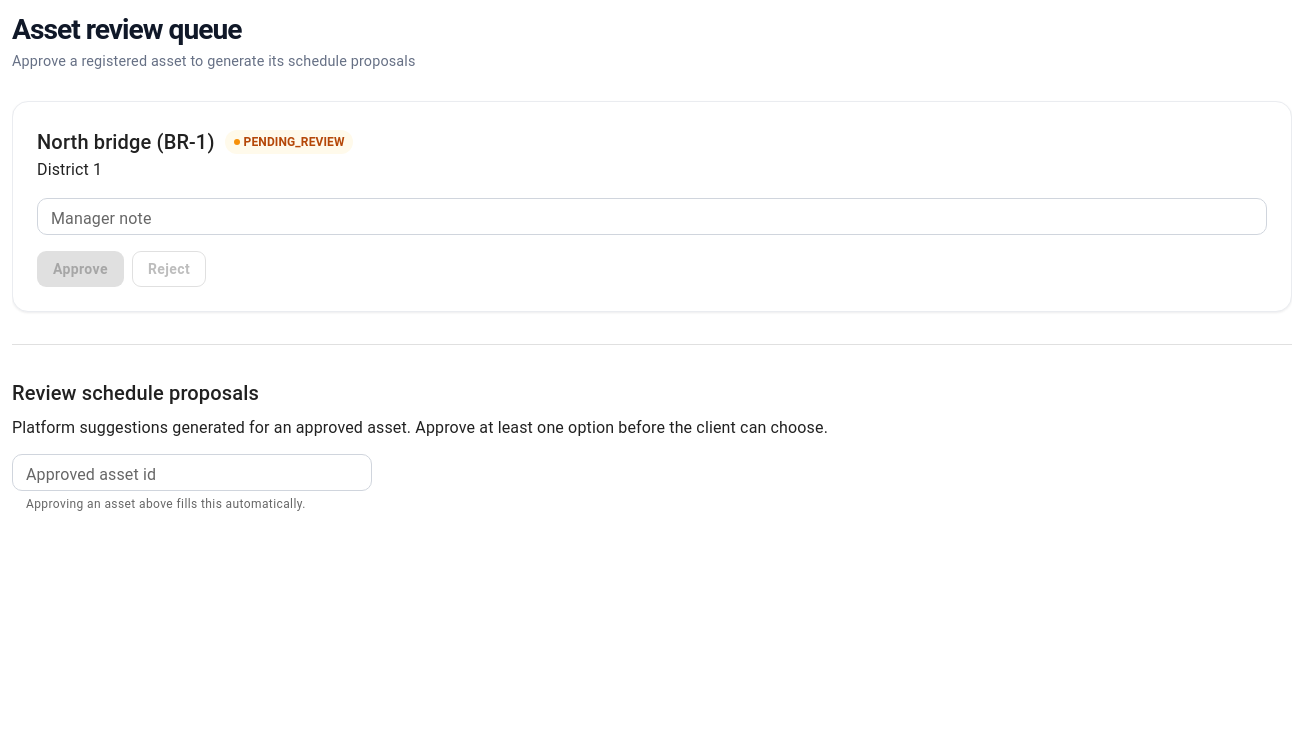
AssetReviewPage review denial › keeps a non-permission proposal-review failure as a generic error
The width and height of the screenshot is (1292, 732).
Type "a1" into the field labelled "Approved asset id" at [192, 473], box [12, 454, 372, 491]
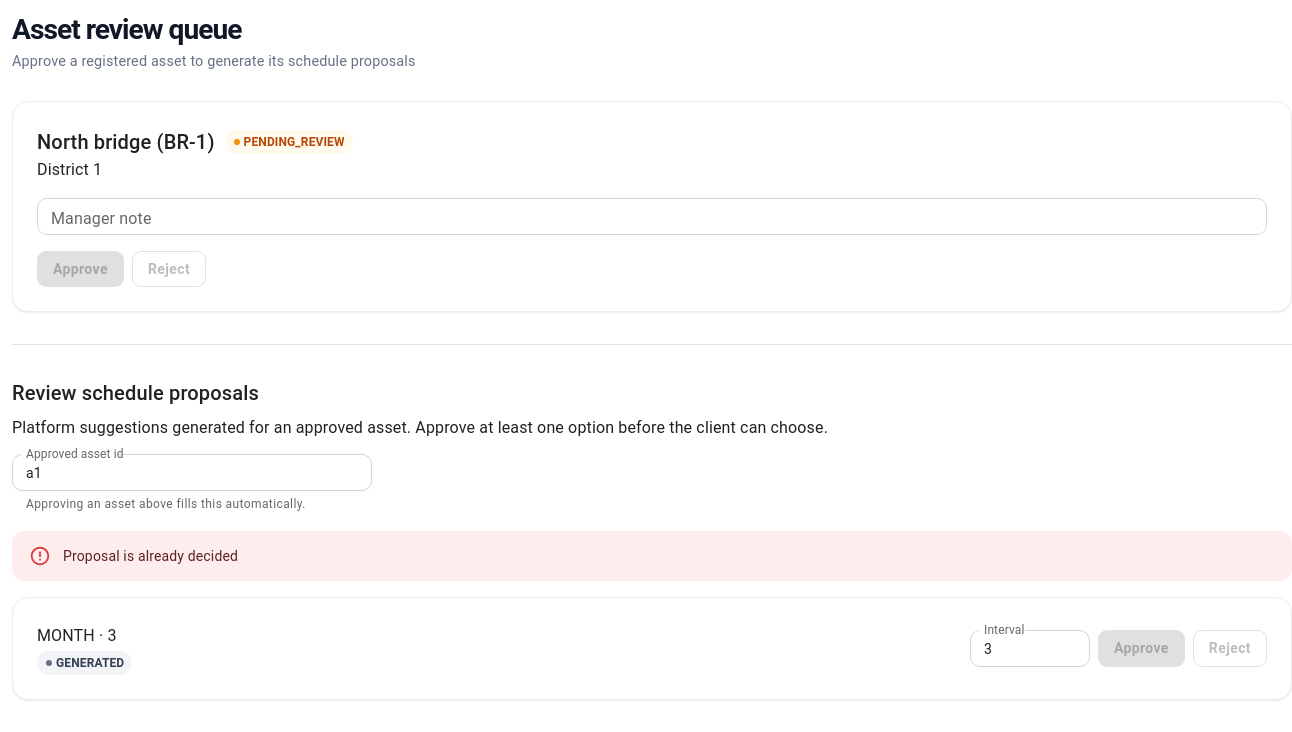
expect the text "Proposal is already decided" is shown: met, box [63, 548, 238, 564]
